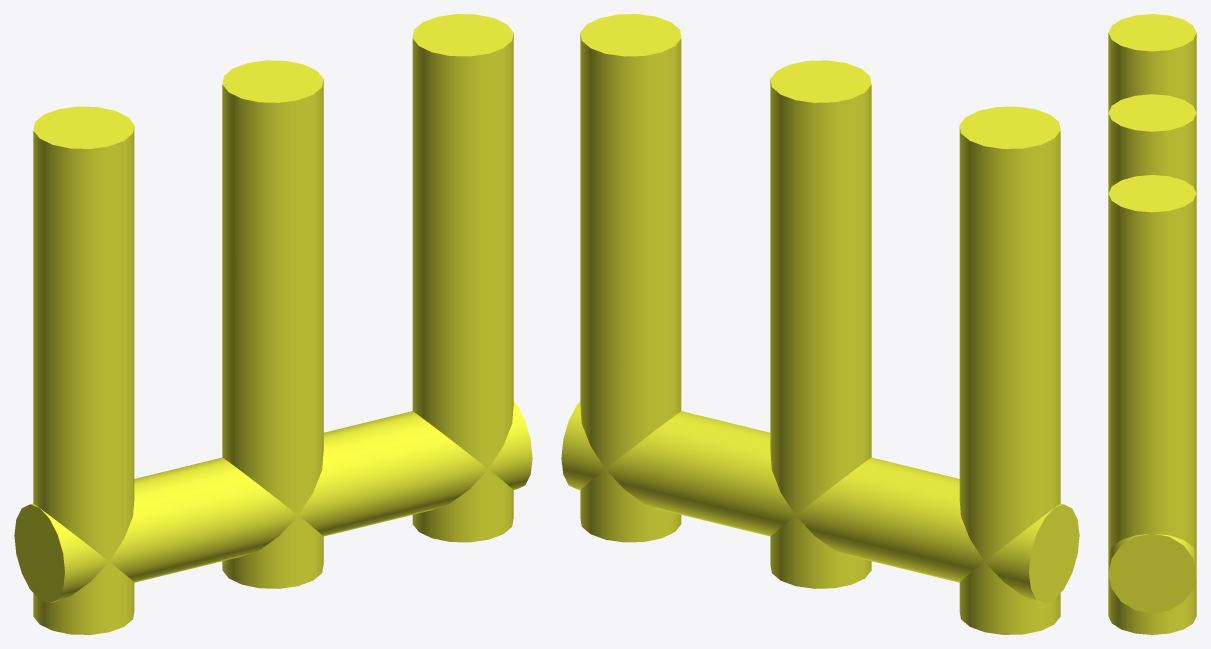
File: Mod_Fence_02.fbx
3 views of the same model, side by side, from view 1: azimuth 30°, elevation 25°; view 2: azimuth 150°, elevation 25°; view 3: azimuth 270°, elevation 25° (orthographic). The views are drawn at different scales.
Parts seen in each view (by area): view 1: Mod_Fence_02; view 2: Mod_Fence_02; view 3: Mod_Fence_02.
Boxes of the visible parts, x1=… form: Mod_Fence_02: x1=14, y1=14, x2=532, y2=634; Mod_Fence_02: x1=561, y1=14, x2=1079, y2=634; Mod_Fence_02: x1=1108, y1=14, x2=1196, y2=634.
Size of the model in its own units: 199 by 197 by 37.3.
